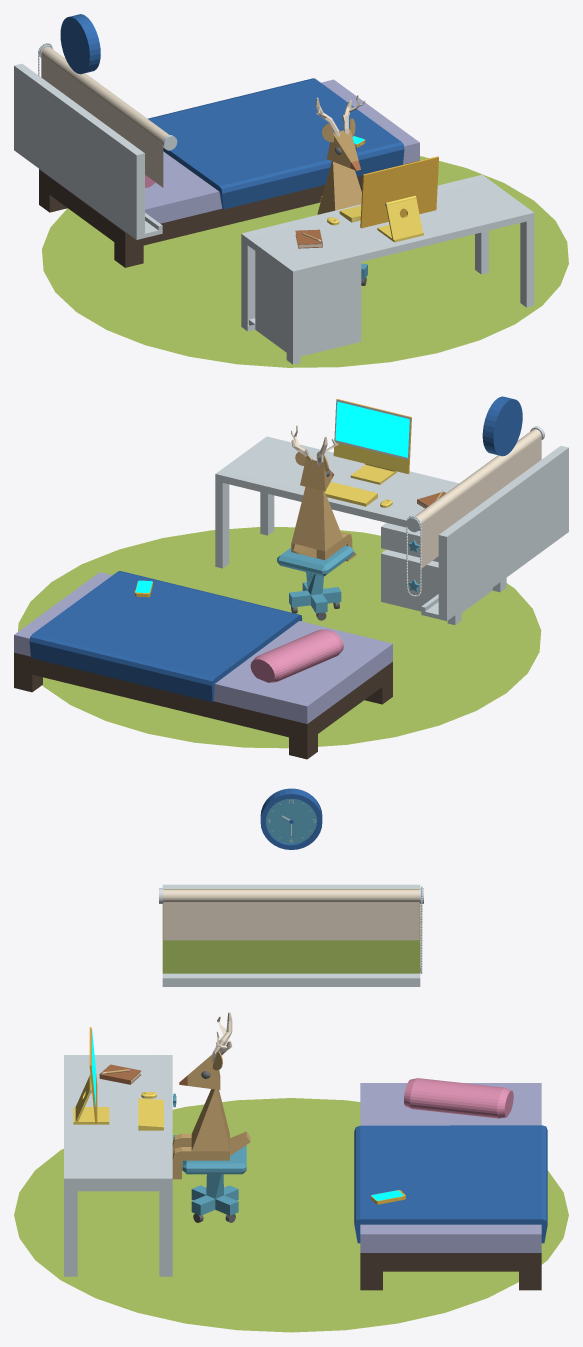
File: bedroom.glb
3 renders of one model, top to bottom at view 1: azimuth 30°, elevation 25°; view 2: azimuth 150°, elevation 25°; view 3: azimuth 270°, elevation 25°, orthographic. The views are drawn at different scales.
Visible parts, largest first — view 1: floor, bed, desk, window, pc, deer, clock, guestbook; view 2: floor, bed, window, desk, deer, pc screen, chair, pc, clock, keyboar; view 3: floor, bed, window, desk, deer, clock, chair, pc, keyboar.
Part boxes in pixels (x1,y1,x2,y2): floor: [42, 156, 568, 367]; bed: [39, 78, 419, 267]; desk: [241, 174, 534, 364]; window: [14, 44, 177, 239]; pc: [360, 156, 438, 242]; deer: [315, 95, 365, 214]; clock: [60, 14, 100, 74]; guestbook: [295, 229, 322, 248]; floor: [18, 527, 541, 748]; bed: [14, 571, 392, 759]; window: [406, 426, 568, 620]; desk: [215, 436, 506, 624]; deer: [291, 425, 356, 561]; pc screen: [335, 401, 409, 457]; chair: [277, 545, 353, 620]; pc: [333, 399, 411, 484]; clock: [482, 396, 522, 456]; keyboar: [325, 482, 377, 506]; floor: [14, 1098, 568, 1332]; bed: [354, 1078, 547, 1290]; window: [159, 884, 423, 986]; desk: [64, 1055, 176, 1276]; deer: [172, 1012, 250, 1179]; clock: [260, 788, 322, 849]; chair: [182, 1145, 246, 1222]; pc: [73, 1027, 109, 1124]; keyboar: [138, 1098, 163, 1130].
Bounding box in the file's own units: 27.01 × 16.52 × 26.92.
2 materials, 1 textured.
